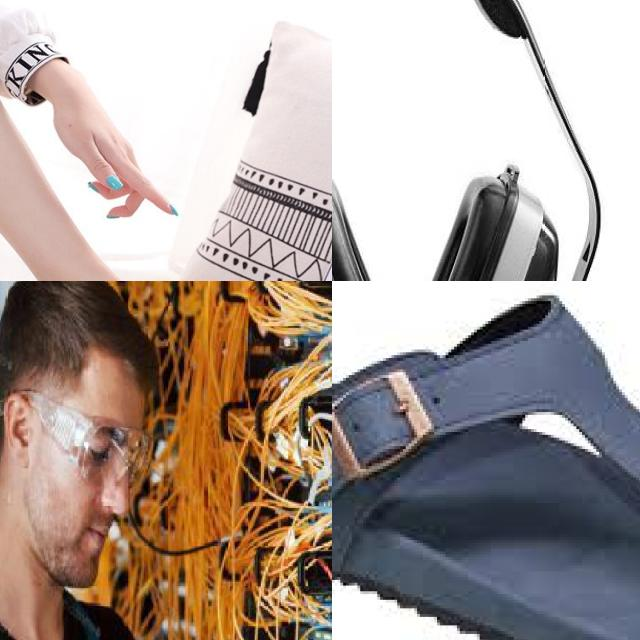Ear-protection: (332, 0, 640, 281)
Sandals: (332, 281, 640, 640)
face_nomask: (59, 421, 152, 566)
glasses: (59, 401, 158, 506)
head_nohelmet: (6, 281, 169, 396)
person: (0, 281, 259, 640)
